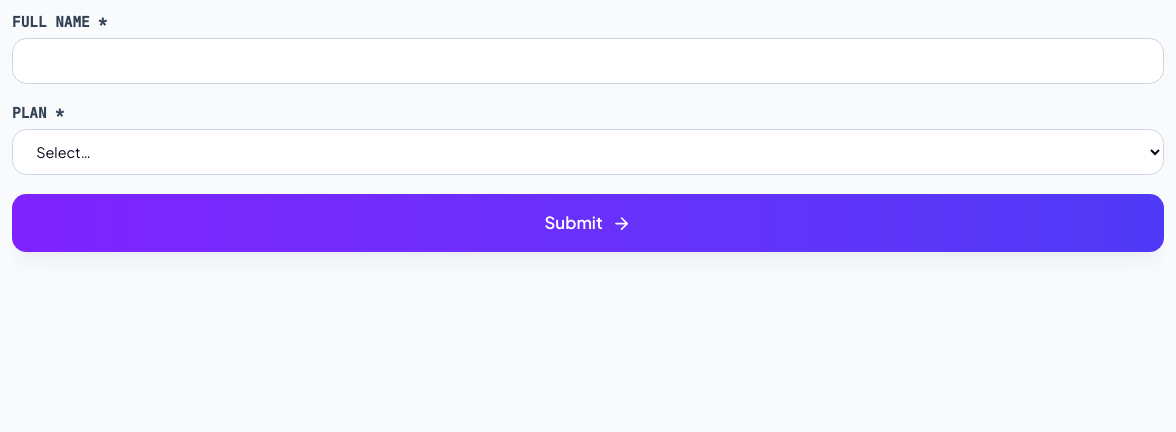
PublicForm › requires a conditionally-visible field once its visibleWhen condition is met
Type "Jane" into the field labelled "Full name *".
click(588, 61); type("Jane")  # box left=12, top=38, right=1164, bottom=84
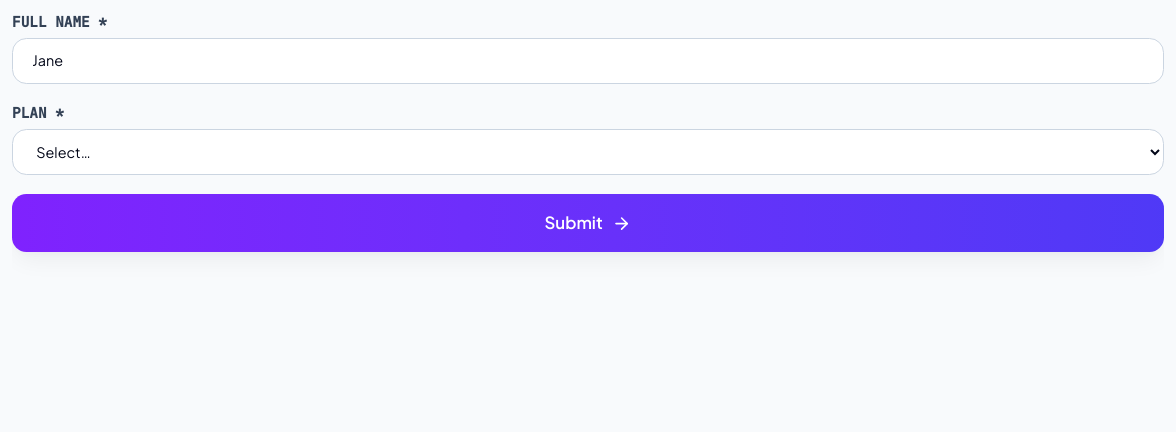
// Selecting "pro" reveals the field, which then becomes genuinely required.
Select "Pro" in the dropdown labelled "Plan *" at (588, 152), box left=12, top=129, right=1164, bottom=175
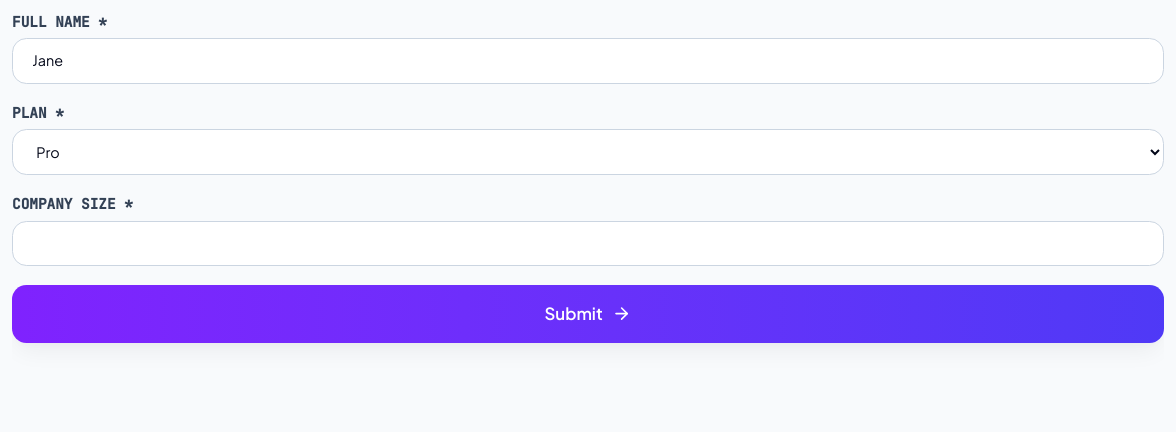
expect the field labelled "Company size *" is shown: met, box left=12, top=221, right=1164, bottom=266
Click the button "Submit".
click(588, 314)  # box left=12, top=285, right=1164, bottom=343
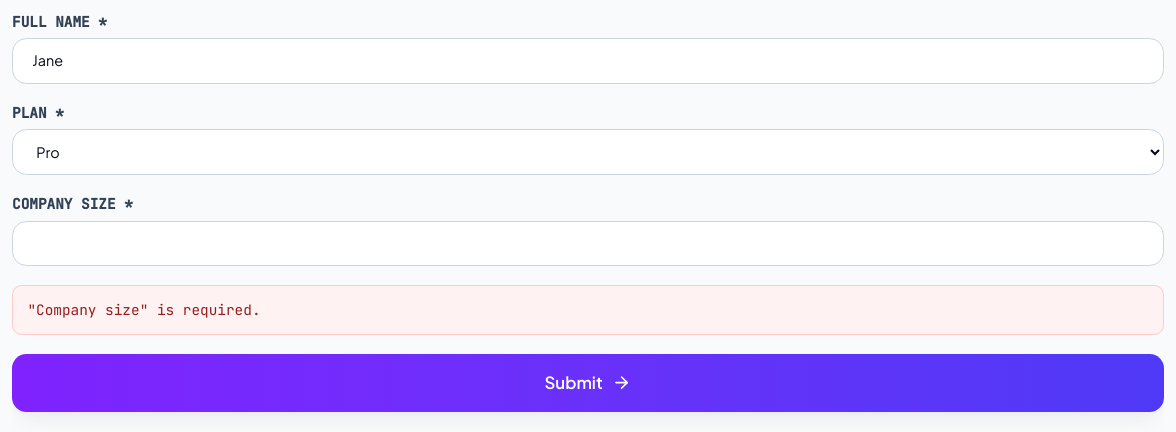
expect the text "\"Company size\" is required." is shown: met, box left=12, top=285, right=1164, bottom=335
